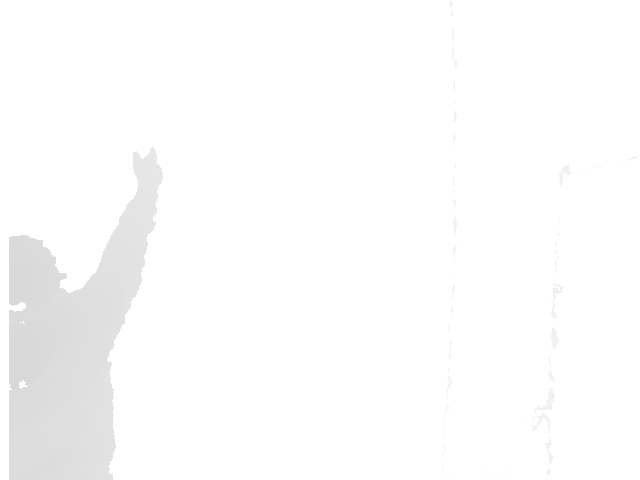hand: (131, 146, 164, 194)
head: (8, 232, 69, 284)
person: (8, 146, 165, 479)
